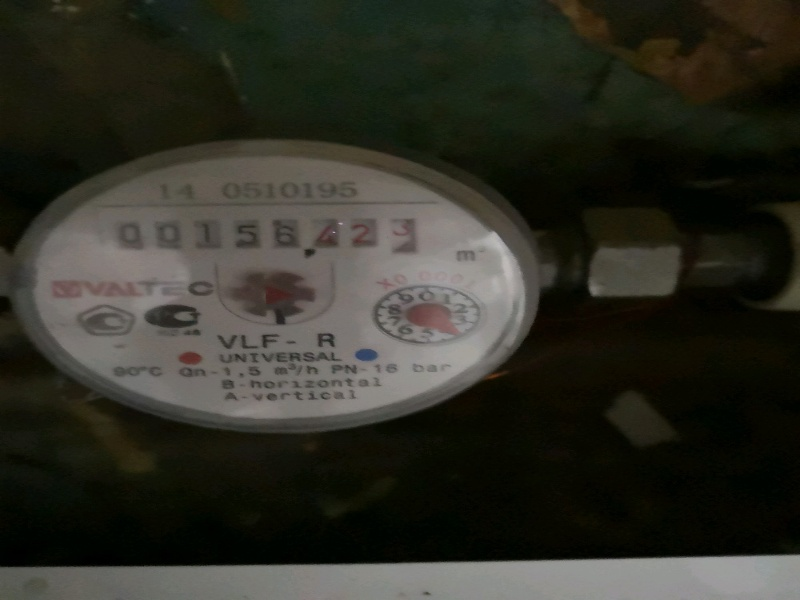meter: (101, 205, 434, 263)
